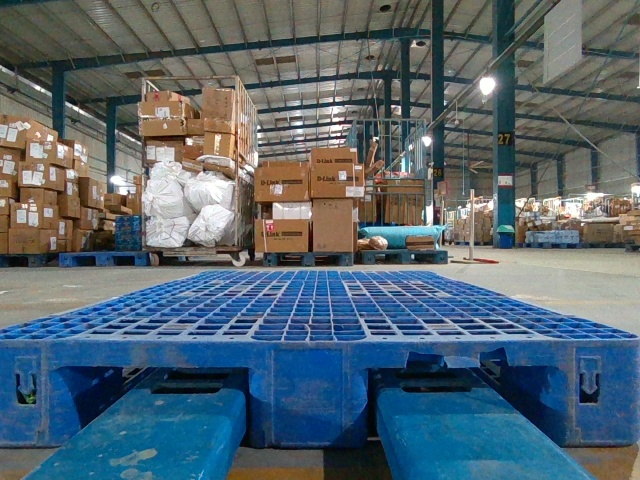block: (246, 338, 371, 446), (2, 339, 77, 448), (565, 339, 639, 447)
front: (0, 339, 638, 447)
hole pallet: (65, 368, 251, 450), (361, 365, 549, 436)
